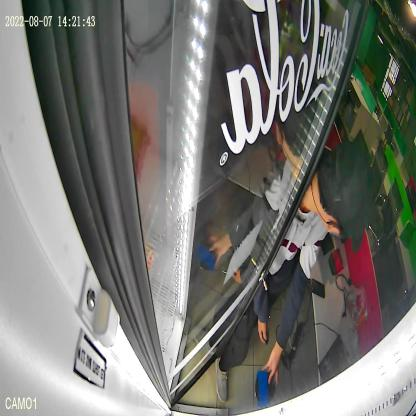blue: (255, 370, 275, 407)
